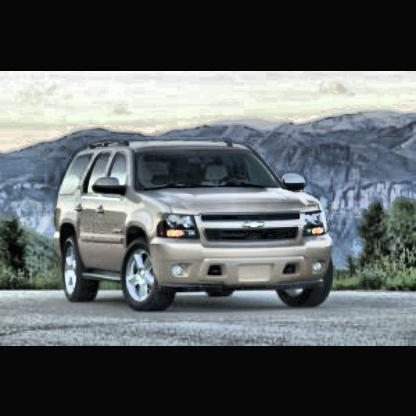Chevrolet Tahoe Hybrid SUV 2012: (58, 139, 339, 315)
